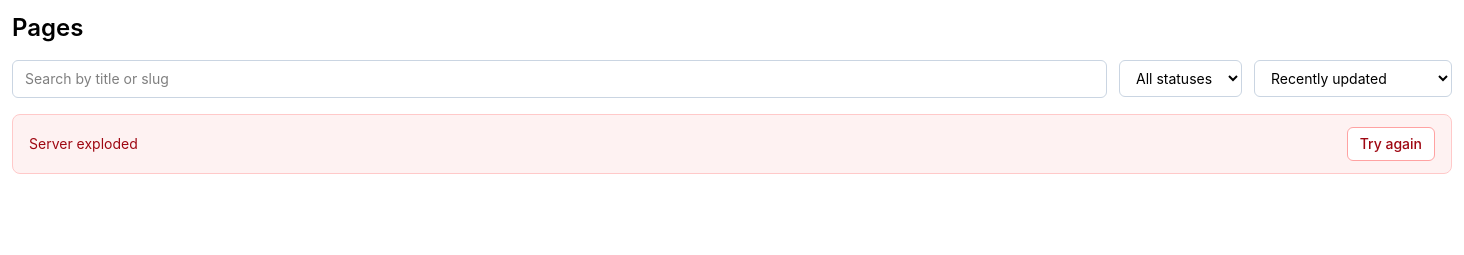
Test: PagesView › shows an error and reloads when Try again is clicked
Expected: the message "Server exploded Try again" is shown, [12,114,1452,174]
Click the button with test id "retry": (1391, 144) [1347,127,1435,161]
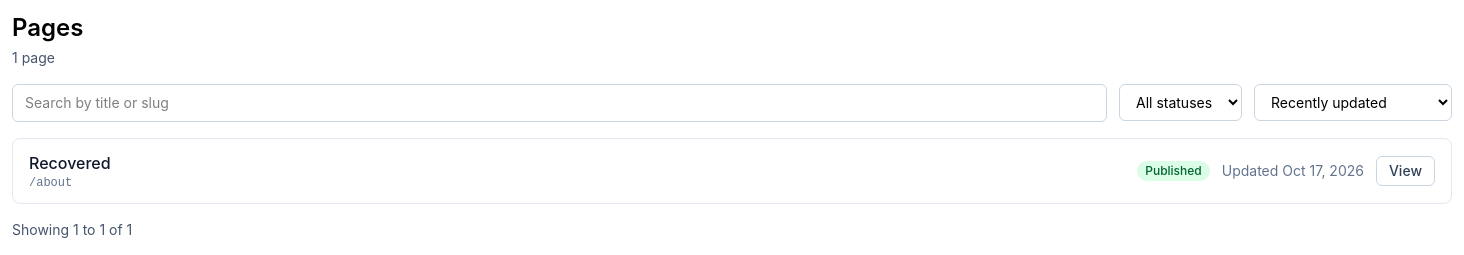
Expected: the text "Recovered" is shown, [29,151,111,175]
